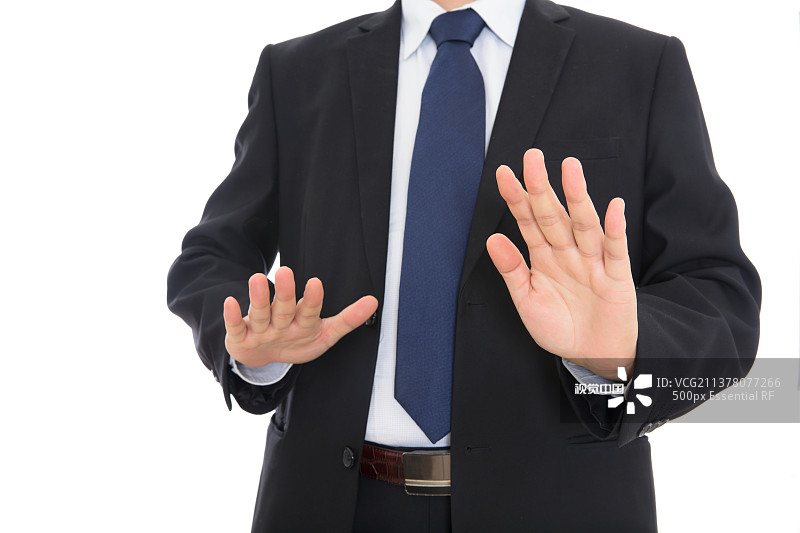no-phone: (457, 140, 652, 384), (184, 251, 396, 380)
